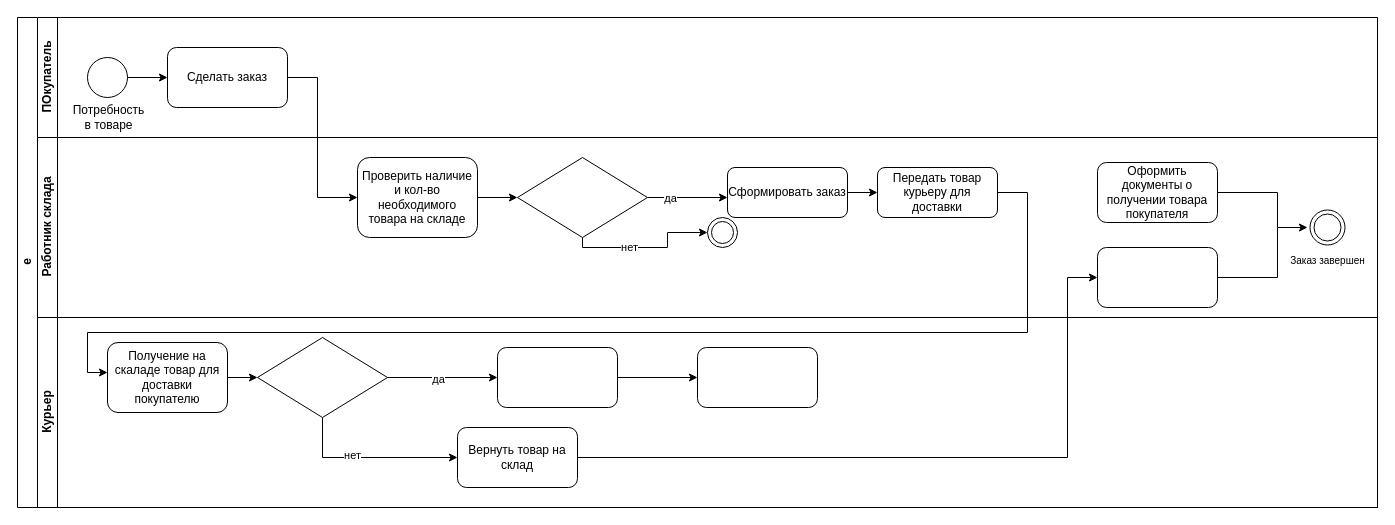
Image size: 1395x525. Some labels were removed from this diagram. Each missing label, with the centre of its shape:
"Доставить товар" belongs at point 557,377.
"Есть?" belongs at point 582,197.
"Могу доставить товар?" belongs at point 322,377.
"Оформить документ об отказе покупателя" belongs at point 1157,277.
"Подписать у клиента документы о пулчении товара" belongs at point 757,377.
